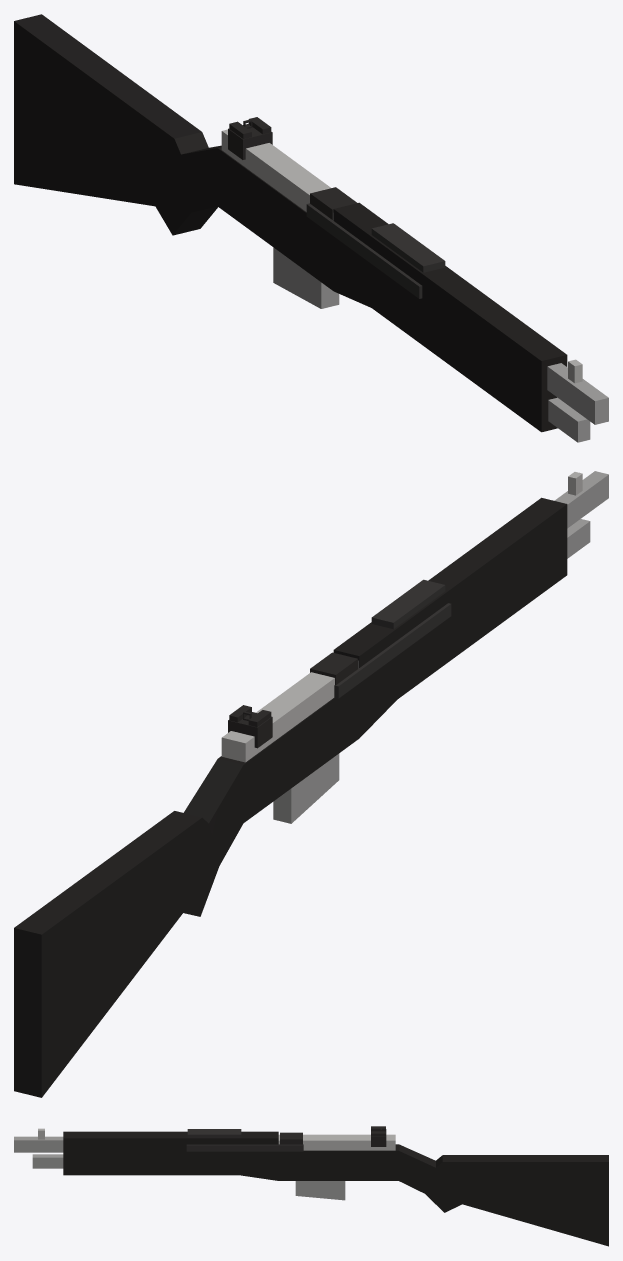
The model's file is Rifle14.FBX.
3 views of the same model, one above another, from view 1: azimuth 30°, elevation 25°; view 2: azimuth 150°, elevation 25°; view 3: azimuth 270°, elevation 25° (orthographic). The views are drawn at different scales.
Parts seen in each view (by area): view 1: Rifle14, Rifle14Mag; view 2: Rifle14, Rifle14Mag; view 3: Rifle14, Rifle14Mag.
Boxes of the visible parts, x1,y1,x2,y2 form: Rifle14: (14,14,608,442); Rifle14Mag: (273,247,339,308); Rifle14: (14,471,608,1097); Rifle14Mag: (273,753,339,823); Rifle14: (14,1126,608,1246); Rifle14Mag: (295,1181,345,1200).
Size of the model in its own units: 7.77 by 242 by 51.35.
